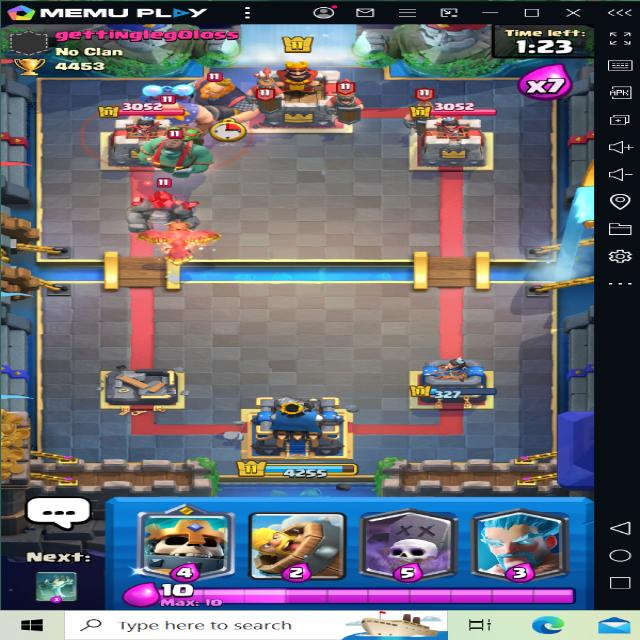electro-giant: (131, 79, 232, 140)
goblin-giant: (141, 116, 218, 173)
golem: (119, 180, 204, 232)
royal-giant: (181, 72, 256, 128)
royal-recruits: (313, 78, 372, 132), (246, 67, 292, 116), (402, 87, 442, 135)
